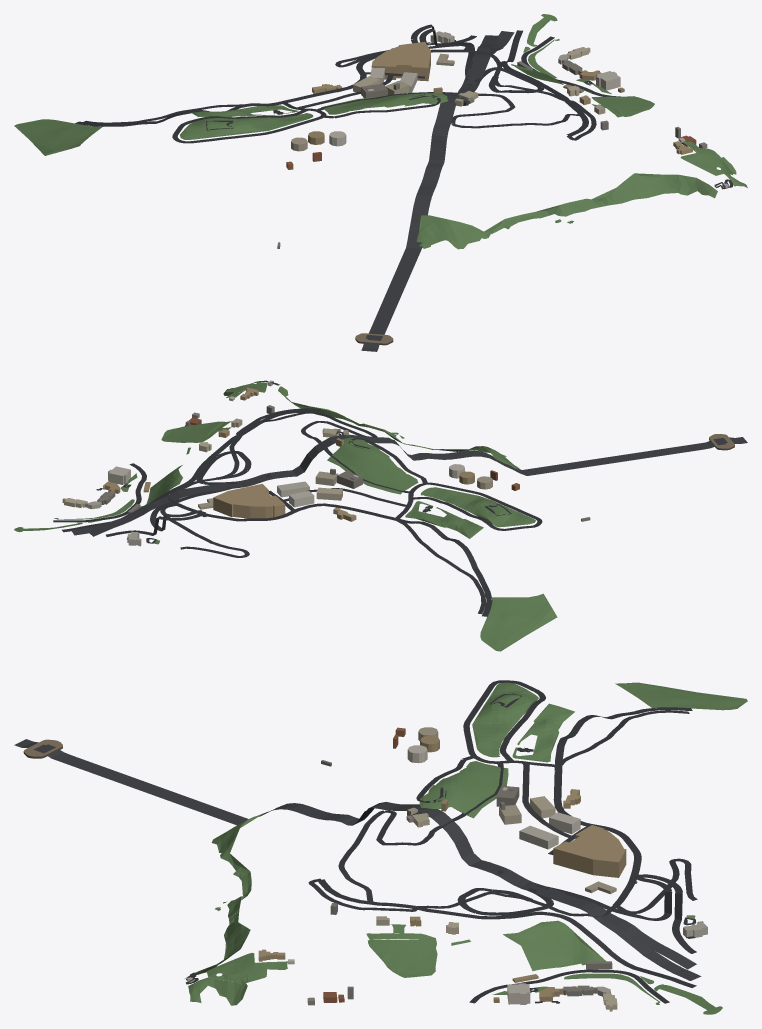
The model's file is tile_17_8.glb.
The picture shows the model from 3 angles, top to bottom: view 1: azimuth 30°, elevation 25°; view 2: azimuth 150°, elevation 25°; view 3: azimuth 270°, elevation 25°; orthographic projection. The views are drawn at different scales.
Visible parts, largest first — view 1: grn_17_8, road_17_8, bld_17_8; view 2: road_17_8, grn_17_8, bld_17_8; view 3: road_17_8, grn_17_8, bld_17_8.
Boxes of the visible parts, bbox=[...] form: grn_17_8: bbox=[14, 14, 747, 345]; road_17_8: bbox=[75, 24, 732, 351]; bld_17_8: bbox=[277, 31, 728, 248]; road_17_8: bbox=[53, 380, 747, 616]; grn_17_8: bbox=[14, 381, 734, 651]; bld_17_8: bbox=[62, 380, 590, 546]; road_17_8: bbox=[14, 680, 701, 1003]; grn_17_8: bbox=[23, 682, 747, 1014]; bld_17_8: bbox=[187, 727, 707, 1011].
Bounding box in the file's own units: 874 × 112 × 866.
